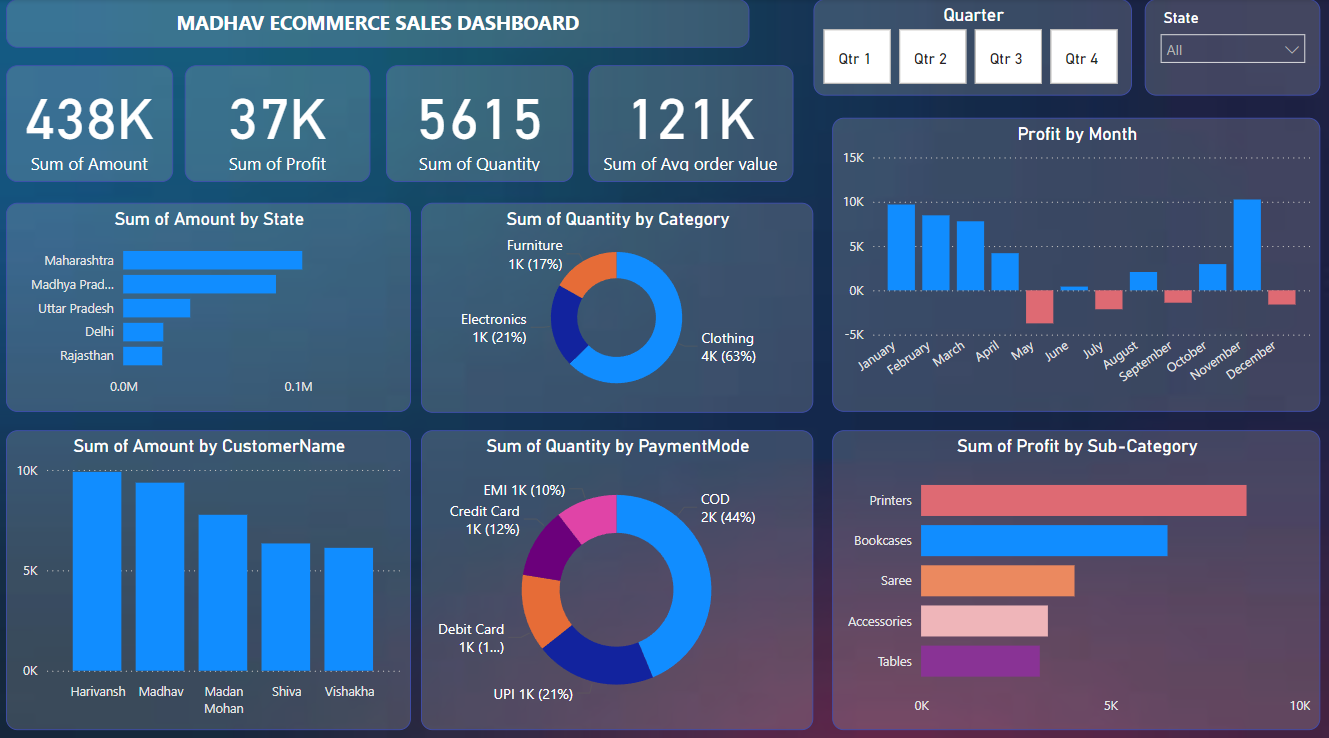

Layout of this report page (visuals, bound fields, positions):
{"tool":"powerbi","page":{"name":"Page 1","canvas":[1280,720],"ordinal":0},"visuals":[{"type":"textbox","box":[9.6,0,708.1,46.7],"z":0},{"type":"columnChart","title":"Profit by Month","fields":{"Y":["Details.Profit"],"Category":["Orders.Order Date.Variation.Date Hierarchy.Month"]},"box":[795.9,112.5,465.2,279.9],"z":1000},{"type":"barChart","fields":{"Category":["Details.Sub-Category"],"Y":["Details.Profit"]},"box":[795.9,410.3,465.2,285.4],"z":2000},{"type":"donutChart","fields":{"Category":["Details.Category"],"Y":["Details.Quantity"]},"box":[404.8,193.5,373.2,200.3],"z":3000},{"type":"donutChart","fields":{"Y":["Details.Quantity"],"Category":["Details.PaymentMode"]},"box":[404.8,410.3,373.2,285.4],"z":4000},{"type":"card","fields":{"Values":["Details.Amount"]},"box":[9.6,63.1,159.2,111.1],"z":5000},{"type":"card","fields":{"Values":["Details.Profit"]},"box":[179.8,63.1,177,111.1],"z":6000},{"type":"card","fields":{"Values":["Details.Quantity"]},"box":[371.9,63.1,178.4,111.1],"z":7000},{"type":"card","fields":{"Values":["Details.Avg order value"]},"box":[564,63.1,194.9,111.1],"z":8000},{"type":"barChart","fields":{"Category":["Orders.State"],"Y":["Details.Amount"]},"box":[9.6,193.5,385.6,199],"z":9000},{"type":"columnChart","fields":{"Category":["Orders.CustomerName"],"Y":["Details.Amount"]},"box":[9.6,410.3,385.6,285.4],"z":10000},{"type":"advancedSlicerVisual","fields":{"Values":["Orders.Order Date.Variation.Date Hierarchy.Quarter"]},"box":[778,0,303.3,91.9],"z":11000},{"type":"slicer","fields":{"Values":["Orders.State"]},"box":[1093.7,0,167.4,91.9],"z":12000}]}

Visuals, with their boxes in screenshot pixels (x1, y1, x2, y2), scaled from the page's 1280x720 canvas onto the 1329x738 screenshot:
textbox: 10, 0, 745, 48
"Profit by Month" columnChart: 826, 115, 1309, 402
barChart - Details.Sub-Category x Details.Profit: 826, 421, 1309, 713
donutChart - Details.Category x Details.Quantity: 420, 198, 808, 404
donutChart - Details.Quantity x Details.PaymentMode: 420, 421, 808, 713
card - Details.Amount: 10, 65, 175, 179
card - Details.Profit: 187, 65, 370, 179
card - Details.Quantity: 386, 65, 571, 179
card - Details.Avg order value: 586, 65, 788, 179
barChart - Orders.State x Details.Amount: 10, 198, 410, 402
columnChart - Orders.CustomerName x Details.Amount: 10, 421, 410, 713
advancedSlicerVisual - Orders.Order Date.Variation.Date Hierarchy.Quarter: 808, 0, 1123, 94
slicer - Orders.State: 1136, 0, 1309, 94
